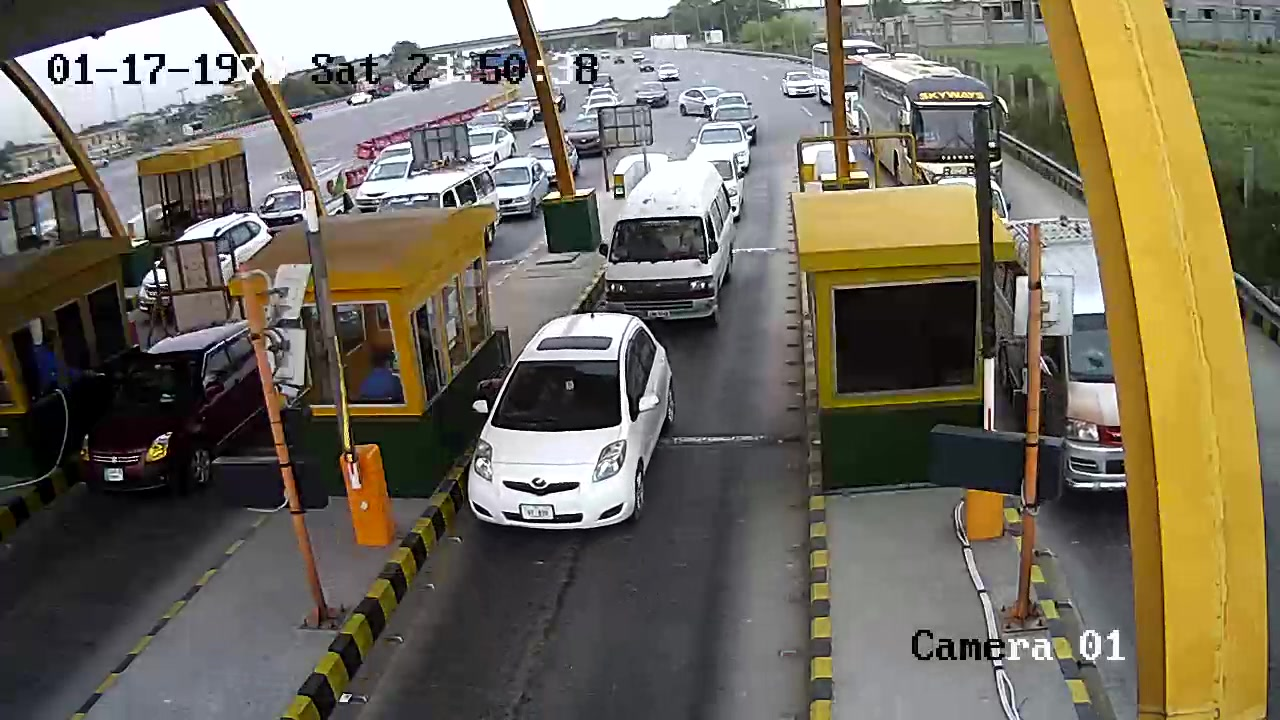F1: (466, 308, 683, 532)
